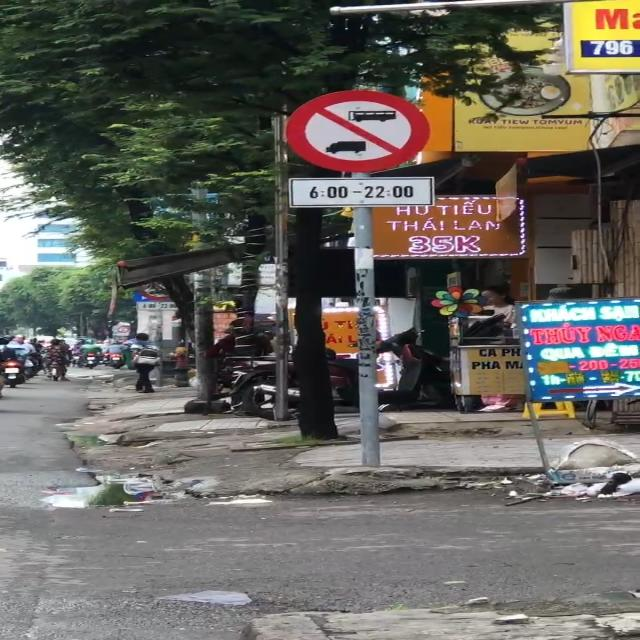Bien bao cam xe oto khach va xe oto tai: (276, 79, 440, 179)
